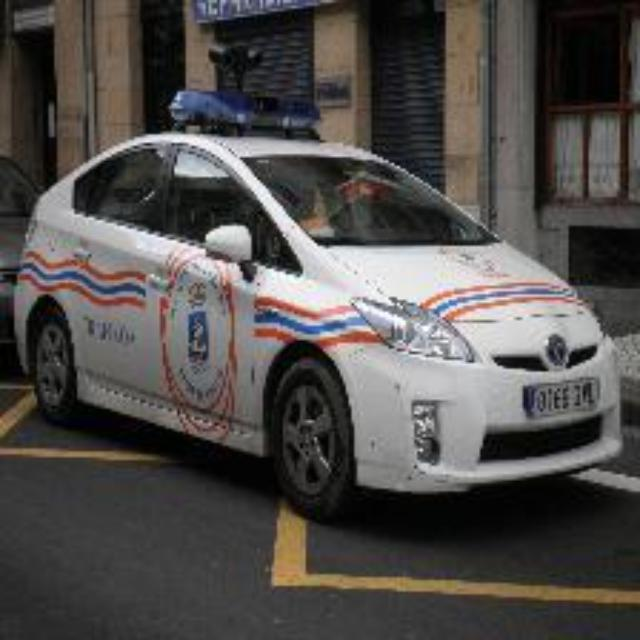emergency: (17, 69, 625, 517)
